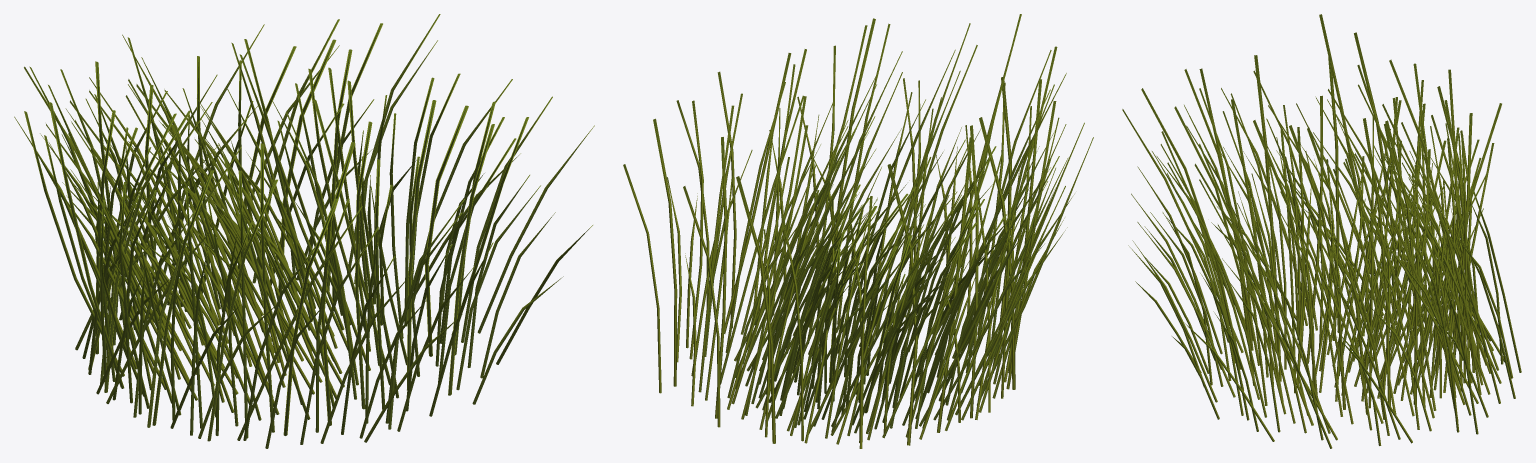
Rendered from grass2.obj.
3 renders of one model, left to right at view 1: azimuth 30°, elevation 25°; view 2: azimuth 150°, elevation 25°; view 3: azimuth 270°, elevation 25°, orthographic. The views are drawn at different scales.
Visible parts, largest first — view 1: tree; view 2: tree; view 3: tree.
Part boxes in pixels (x1=…): tree: x1=14, y1=14, x2=594, y2=448; tree: x1=623, y1=14, x2=1093, y2=448; tree: x1=1122, y1=14, x2=1521, y2=448.
Bounding box in the file's own units: 159 × 101 × 136.
1 material, 1 textured.
